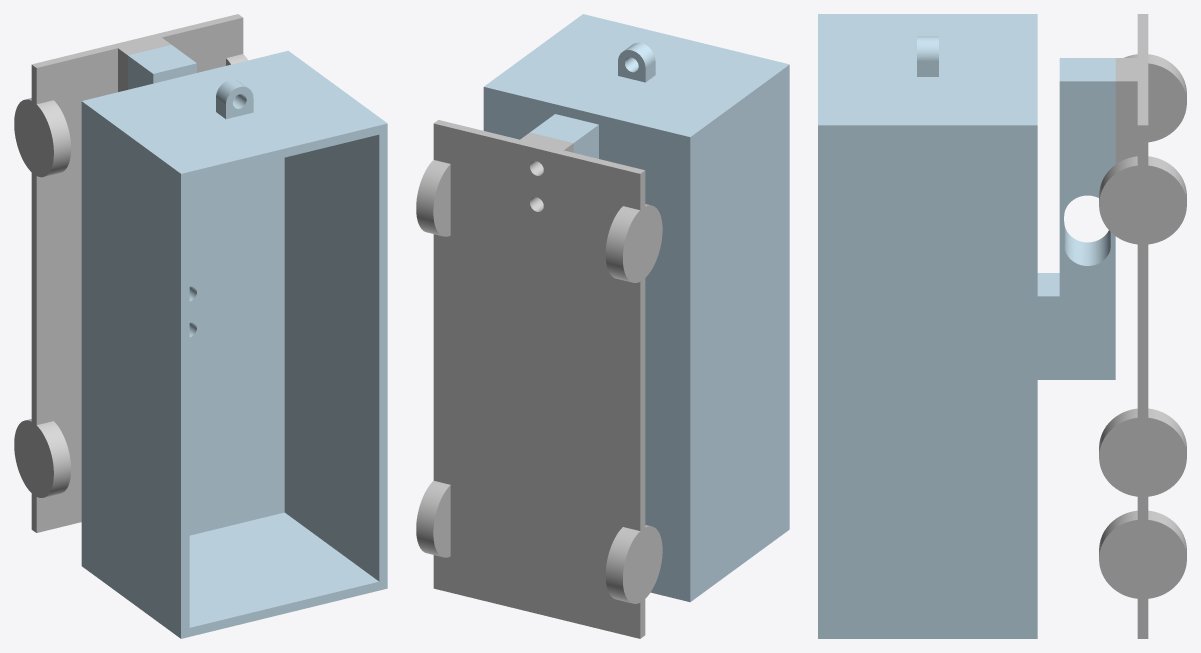
Rendered from wagon.glb.
3 renders of one model, left to right at view 1: azimuth 30°, elevation 25°; view 2: azimuth 150°, elevation 25°; view 3: azimuth 270°, elevation 25°, orthographic. The views are drawn at different scales.
Parts seen in each view (by area): view 1: Part 1, Part 2, ditto; view 2: Part 2, Part 1, ditto; view 3: Part 1, Part 2, ditto.
Part boxes in pixels (x1,y1,x2,y2): Part 1: (81, 50, 387, 638); Part 2: (14, 14, 248, 532); ditto: (128, 45, 196, 89); Part 2: (416, 120, 662, 638); Part 1: (483, 14, 789, 602); ditto: (530, 114, 598, 158); Part 1: (818, 14, 1059, 638); Part 2: (1099, 14, 1186, 638); ditto: (1059, 58, 1115, 379).
Bounding box in the file's own units: 0.06 × 0.145 × 0.0839.
